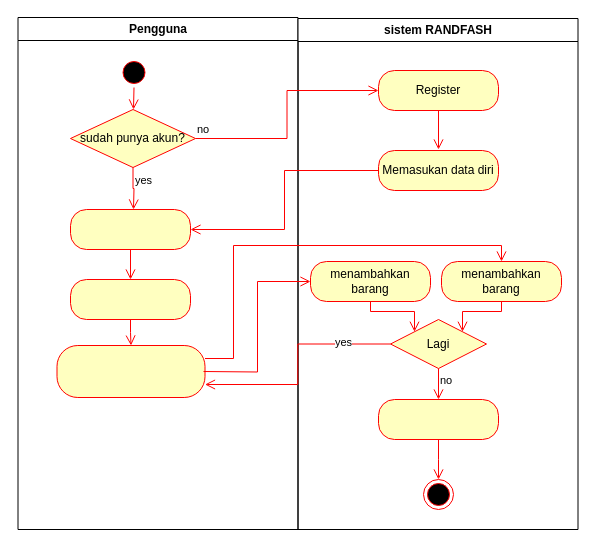
The diagram is 595 pixels wide and 547 high, and some of its shapes have lost their labels. The shapes that lost their labels are listed below. From the top down, each one's centre as x and y in pixels, then its label:
At [130,229]: "Login".
At [130,299]: "Melihat halaman utama RANDFASH".
At [130,371]: "Memiliih barang dan memasukan ke kekeranjang".
At [438,419]: "Pembayaran".
